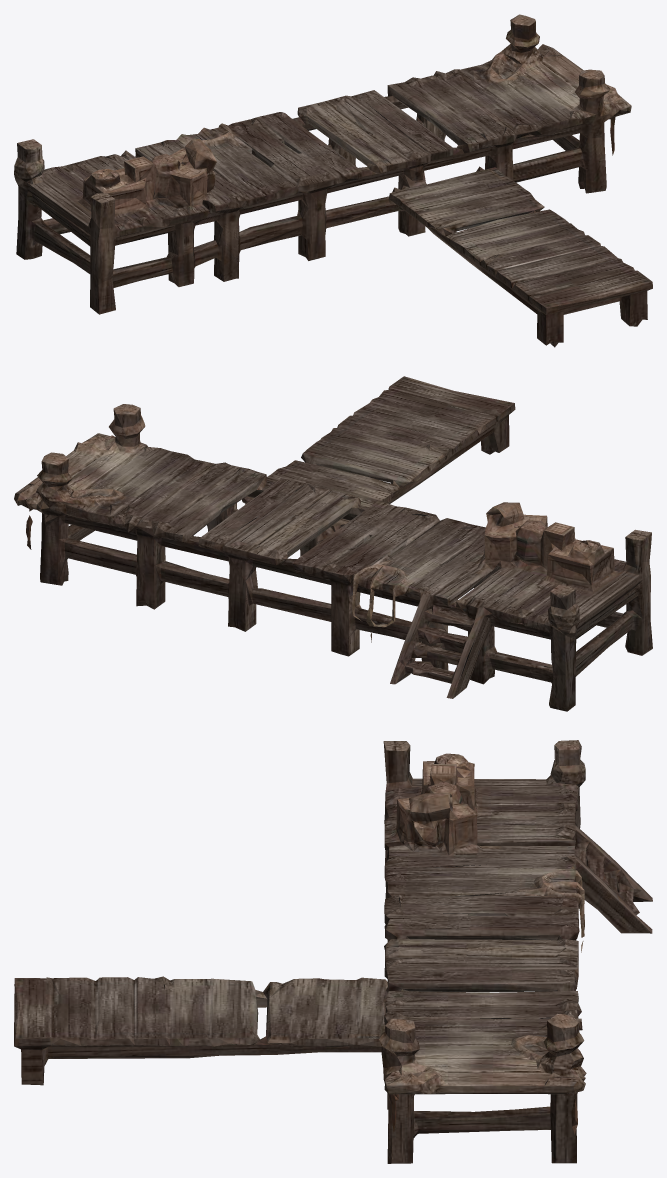
The model's file is dock_weathered_pier_lod0.glb.
The picture shows the model from 3 angles, top to bottom: view 1: azimuth 30°, elevation 25°; view 2: azimuth 150°, elevation 25°; view 3: azimuth 270°, elevation 25°; orthographic projection. The views are drawn at different scales.
Visible parts, largest first — view 1: dock_weathered_pier_lod0; view 2: dock_weathered_pier_lod0; view 3: dock_weathered_pier_lod0.
Boxes of the visible parts, box(x1,y1,x2,y2) form: dock_weathered_pier_lod0: box(14, 14, 652, 347); dock_weathered_pier_lod0: box(14, 376, 652, 711); dock_weathered_pier_lod0: box(14, 740, 652, 1163).
Size of the model in its own units: 7.99 by 1.77 by 6.91.
Materials: 1 (1 with a texture image).
